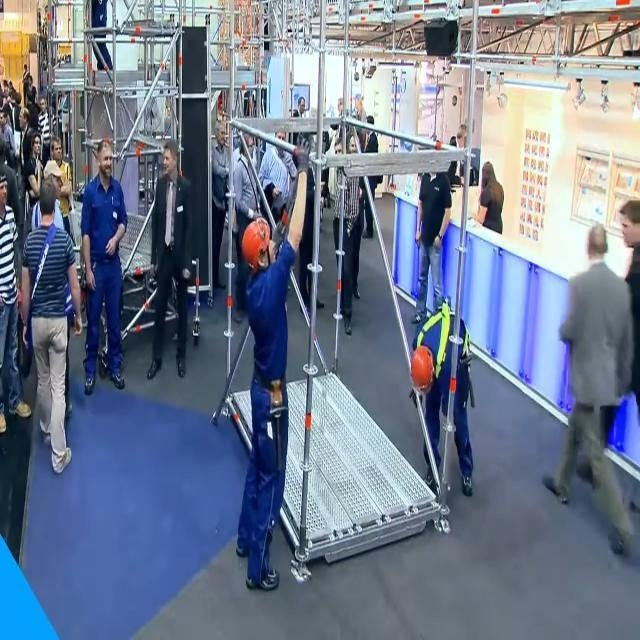Arnes_seguridad: (414, 308, 472, 383)
